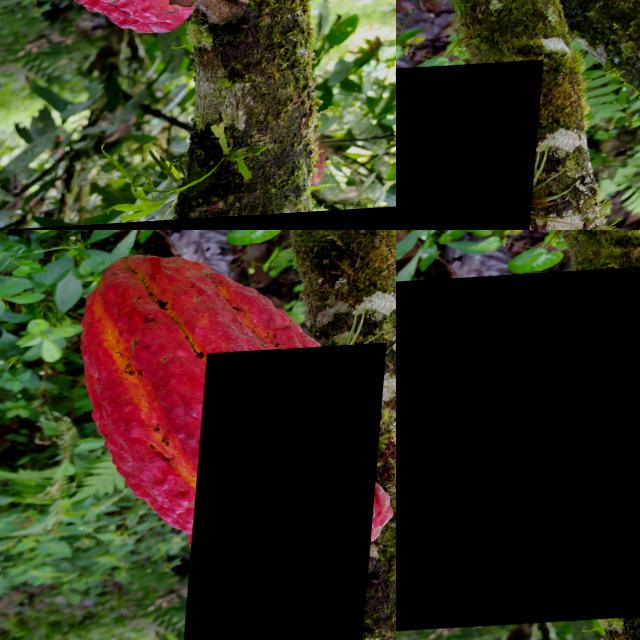Sana: (396, 270, 640, 636), (189, 348, 390, 640), (396, 64, 544, 230)
